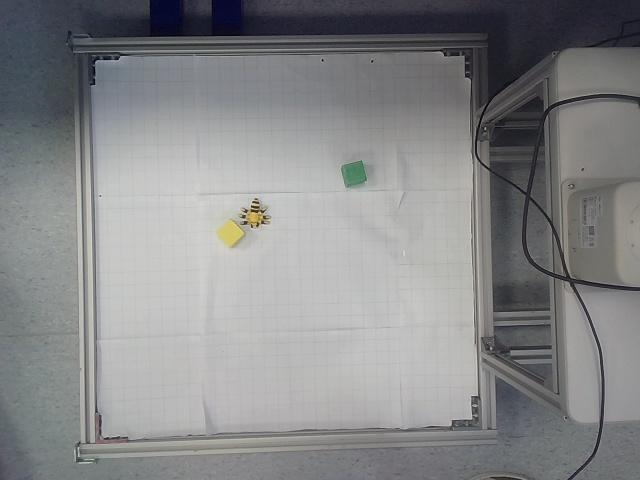frelon: (239, 198, 272, 229)
